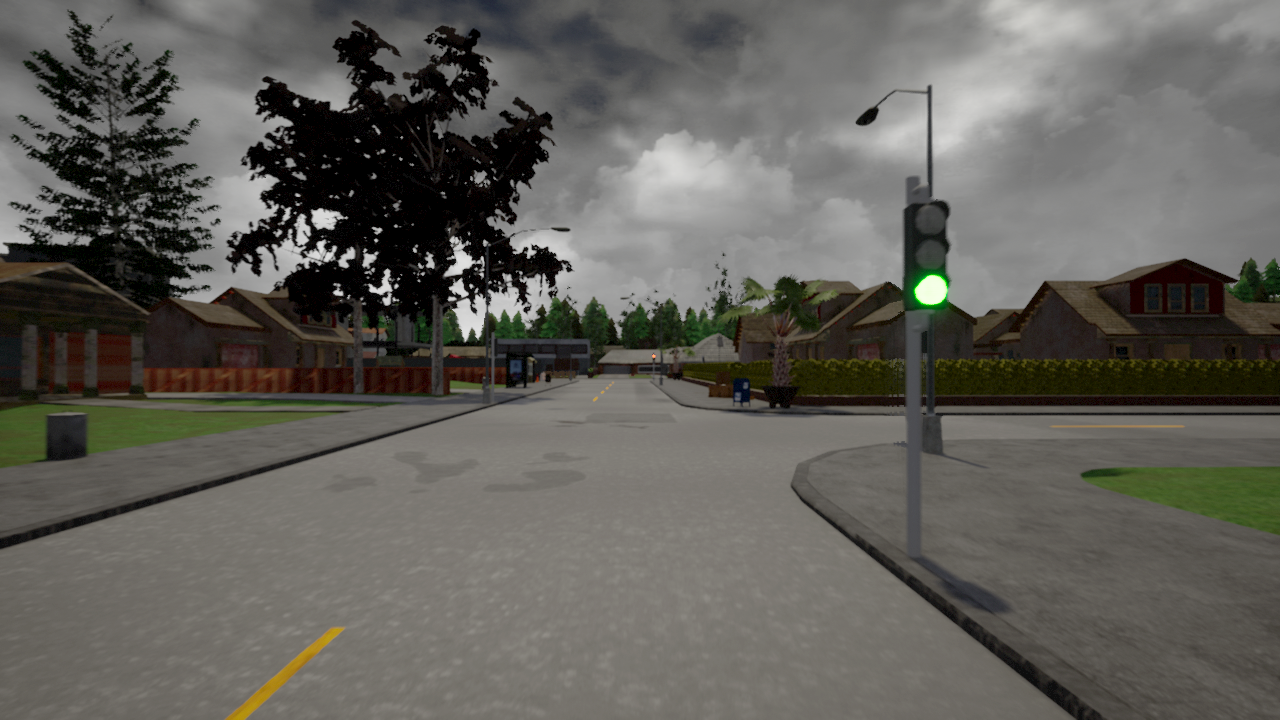green: (902, 200, 948, 312)
